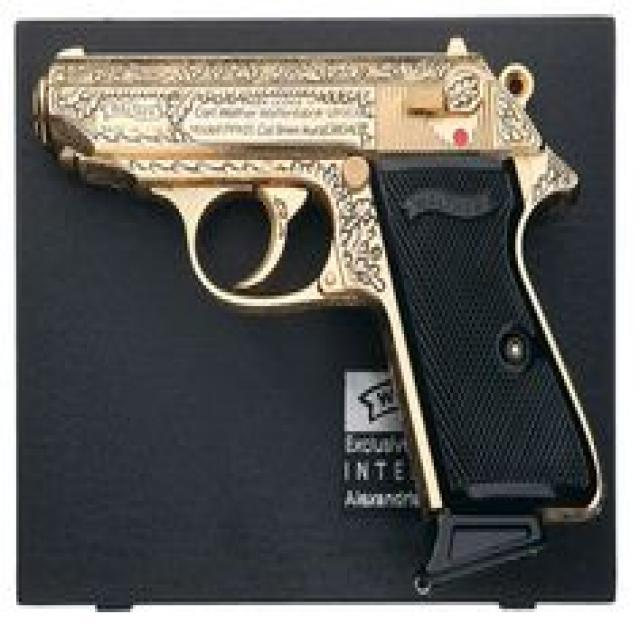semi automatic: (32, 34, 608, 604)
